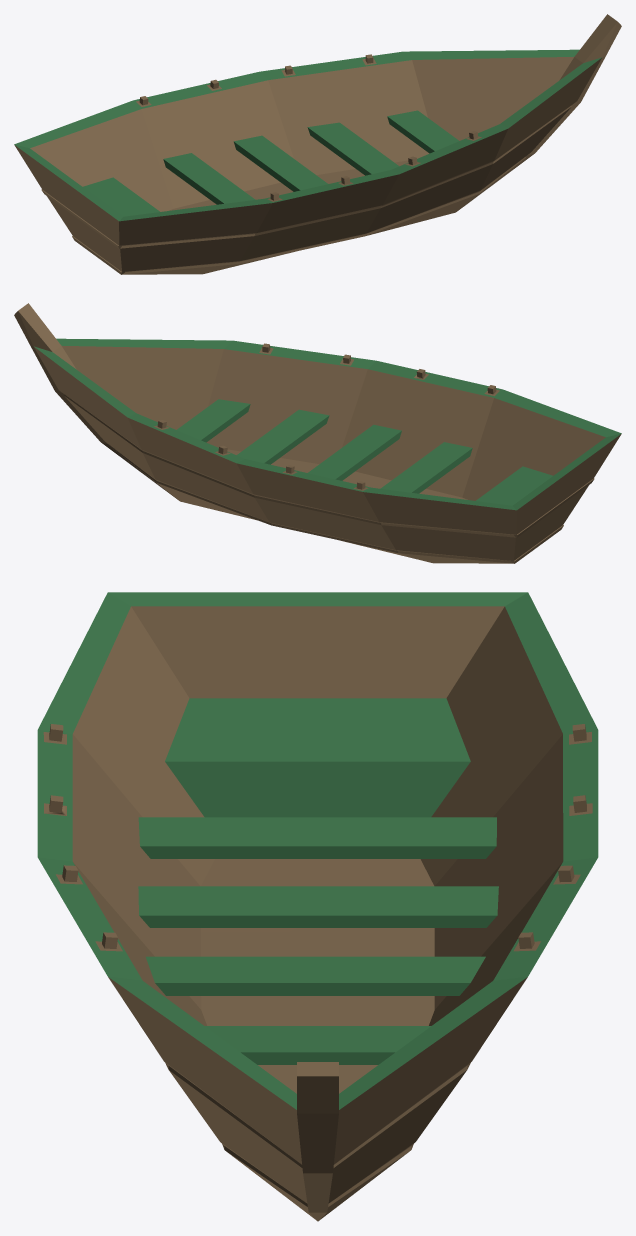
The model's file is boooat.fbx.
The picture shows the model from 3 angles, top to bottom: view 1: azimuth 30°, elevation 25°; view 2: azimuth 150°, elevation 25°; view 3: azimuth 270°, elevation 25°; orthographic projection. The views are drawn at different scales.
Parts seen in each view (by area): view 1: Plane.061; view 2: Plane.061; view 3: Plane.061.
Part boxes in pixels (x1,y1,x2,y2): Plane.061: [14, 14, 621, 274]; Plane.061: [14, 303, 621, 563]; Plane.061: [37, 592, 598, 1221].
Size of the model in its own units: 1632 by 443 by 720.
